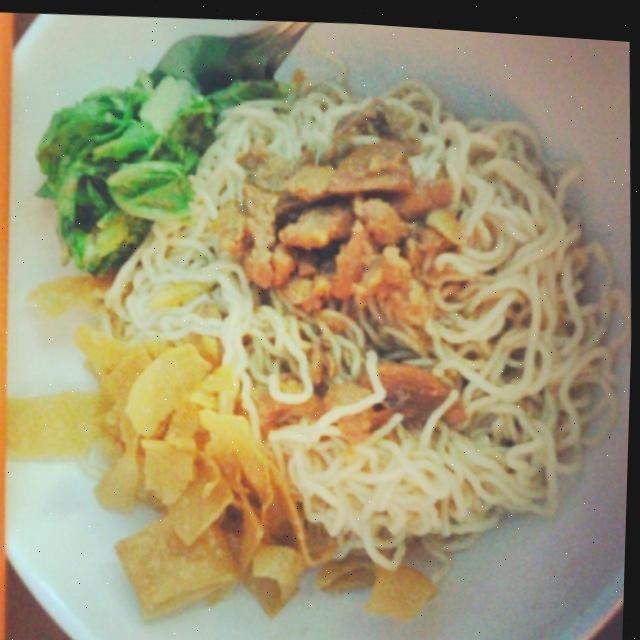面条主食: (18, 21, 628, 640)
